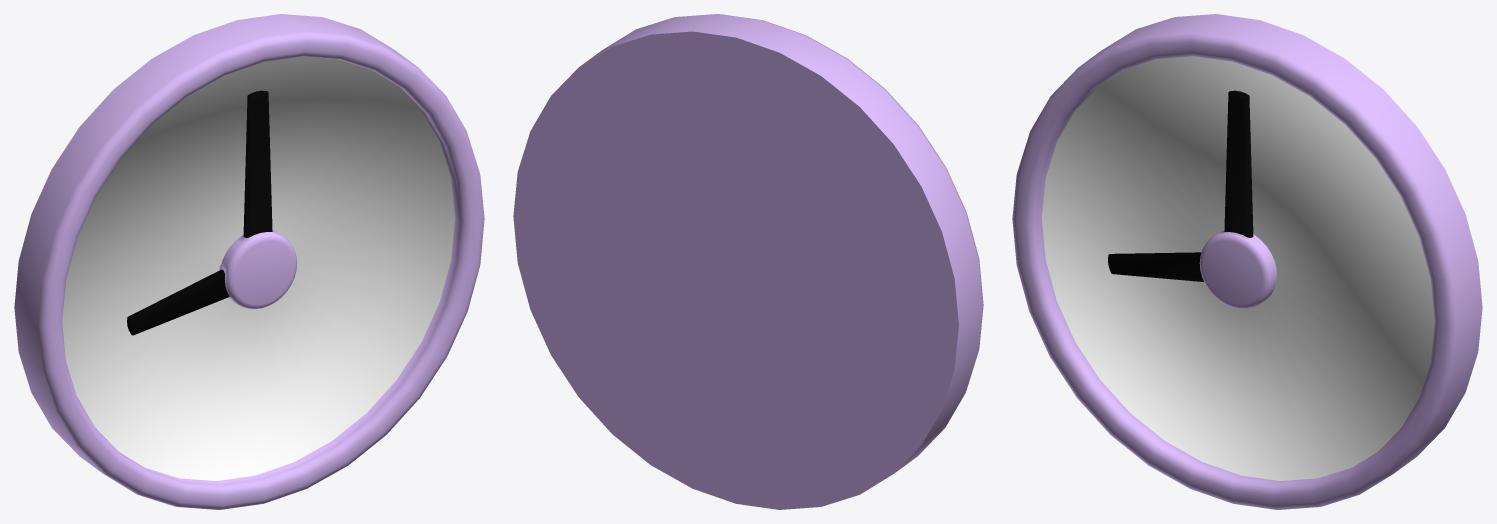
The model's file is Clock.fbx.
3 renders of one model, left to right at view 1: azimuth 30°, elevation 25°; view 2: azimuth 150°, elevation 25°; view 3: azimuth 330°, elevation 25°, orthographic.
Parts seen in each view (by area): view 1: Clock; view 2: Clock; view 3: Clock.
Boxes of the visible parts, left/top/right/bottom form: Clock: left=14, top=14, right=484, bottom=509; Clock: left=513, top=14, right=983, bottom=509; Clock: left=1012, top=14, right=1482, bottom=509.
Bounding box in the file's own units: 0.7515 × 0.0814 × 0.7515.
